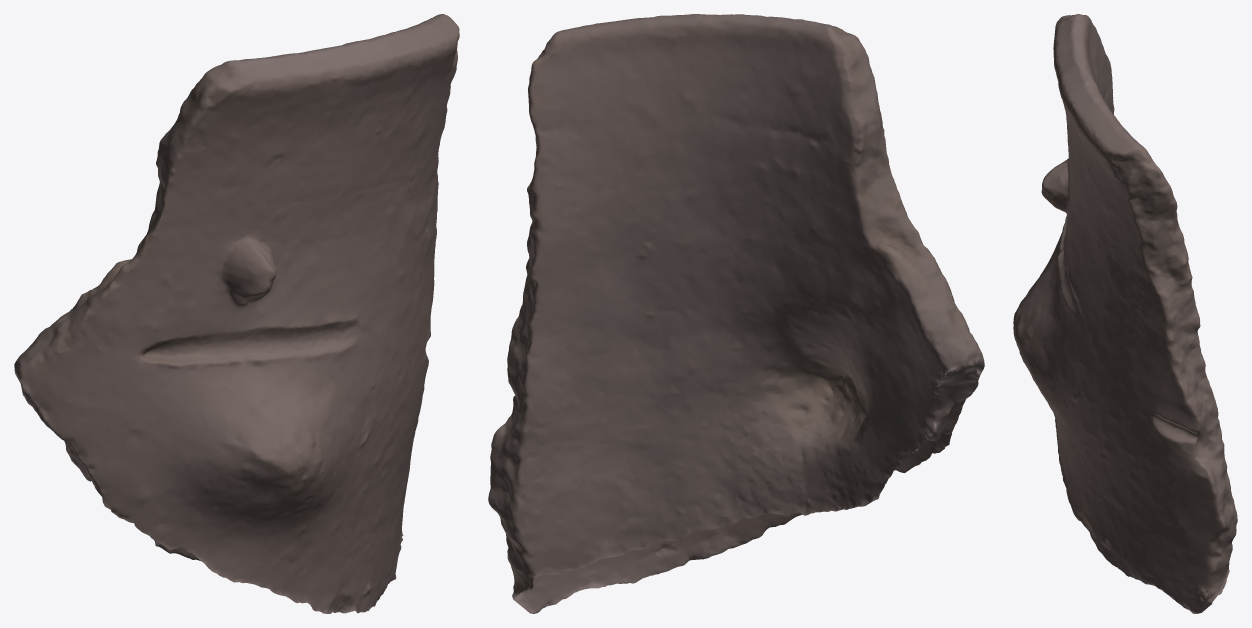
File: piagn_2025_cojal_--_modelo_7_--_bolsa_08_511.glb
3 views of the same model, side by side, from view 1: azimuth 30°, elevation 25°; view 2: azimuth 150°, elevation 25°; view 3: azimuth 270°, elevation 25° (orthographic). The views are drawn at different scales.
Visible parts, largest first — view 1: Object_2_modelo_7_0; view 2: Object_2_modelo_7_0; view 3: Object_2_modelo_7_0.
Boxes of the visible parts, x1,y1,x2,y2 form: Object_2_modelo_7_0: [14, 14, 459, 613]; Object_2_modelo_7_0: [488, 14, 984, 613]; Object_2_modelo_7_0: [1013, 14, 1237, 613].
Bounding box in the file's own units: 2.61 × 3.39 × 1.36.
